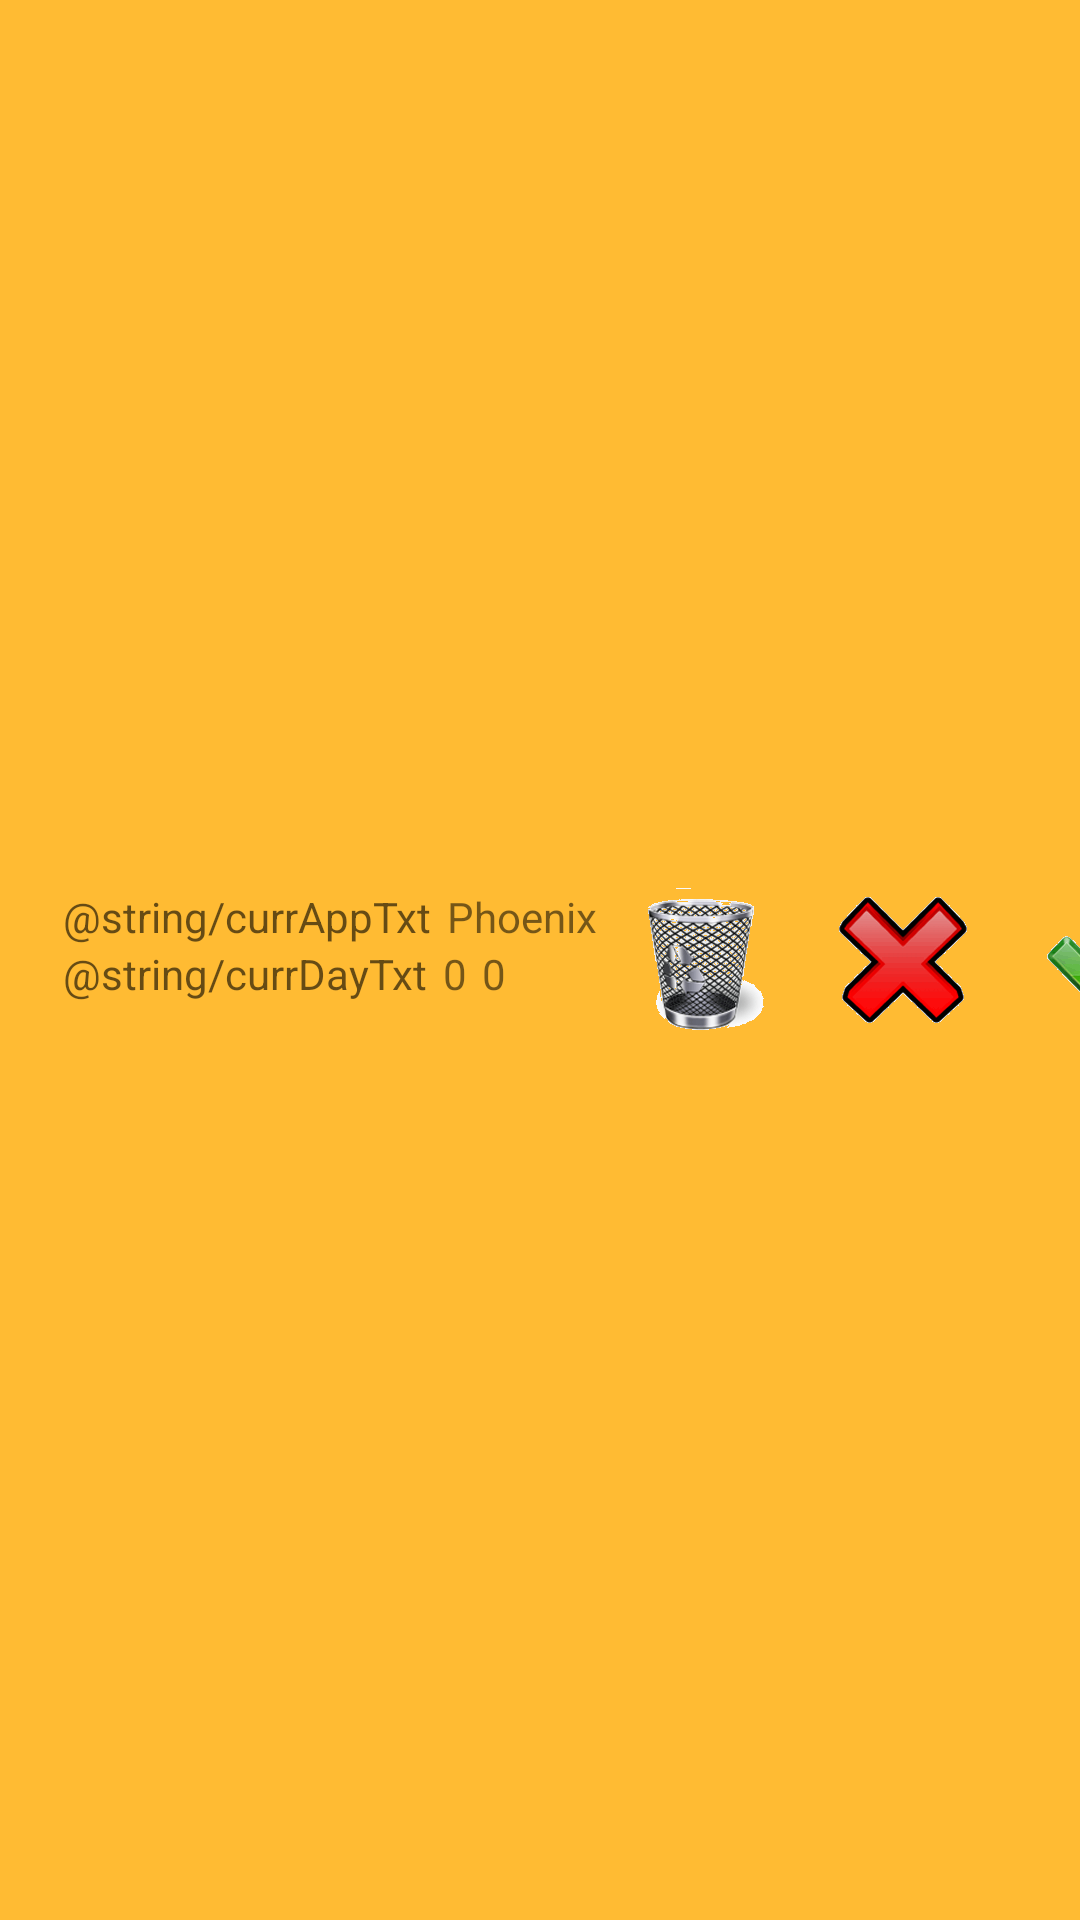

Icon click points for this 1080px x 1920px phone screenshot, format (x,y):
cancel: (903,960)
